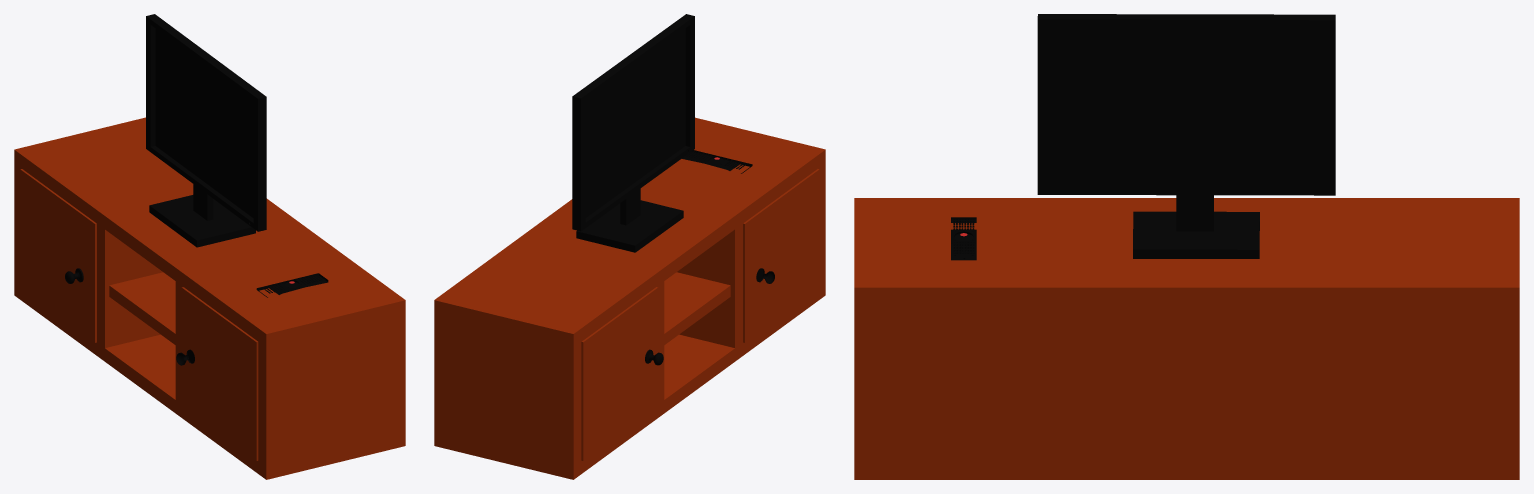
3 renders of one model, left to right at view 1: azimuth 30°, elevation 25°; view 2: azimuth 150°, elevation 25°; view 3: azimuth 270°, elevation 25°, orthographic. The views are drawn at different scales.
Parts seen in each view (by area): view 1: Cube, Cube.005, Circle.005; view 2: Cube, Cube.005, Circle.005; view 3: Cube, Cube.005, Circle.005.
Part boxes in pixels (bbox=[...]): Cube: bbox=[14, 117, 405, 479]; Cube.005: bbox=[146, 14, 266, 247]; Circle.005: bbox=[256, 273, 328, 297]; Cube: bbox=[434, 117, 825, 479]; Cube.005: bbox=[572, 14, 694, 252]; Circle.005: bbox=[682, 150, 752, 173]; Cube: bbox=[854, 198, 1519, 479]; Cube.005: bbox=[1037, 14, 1335, 258]; Circle.005: bbox=[951, 217, 976, 260].
Size of the model in its own units: 0.6889 by 1.32 by 1.91.
